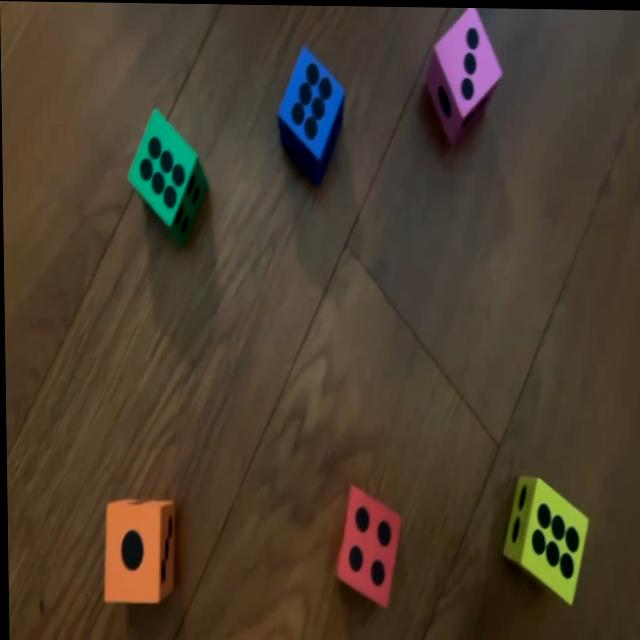cube: (125, 107, 206, 242), (276, 46, 344, 178), (334, 481, 401, 606)
